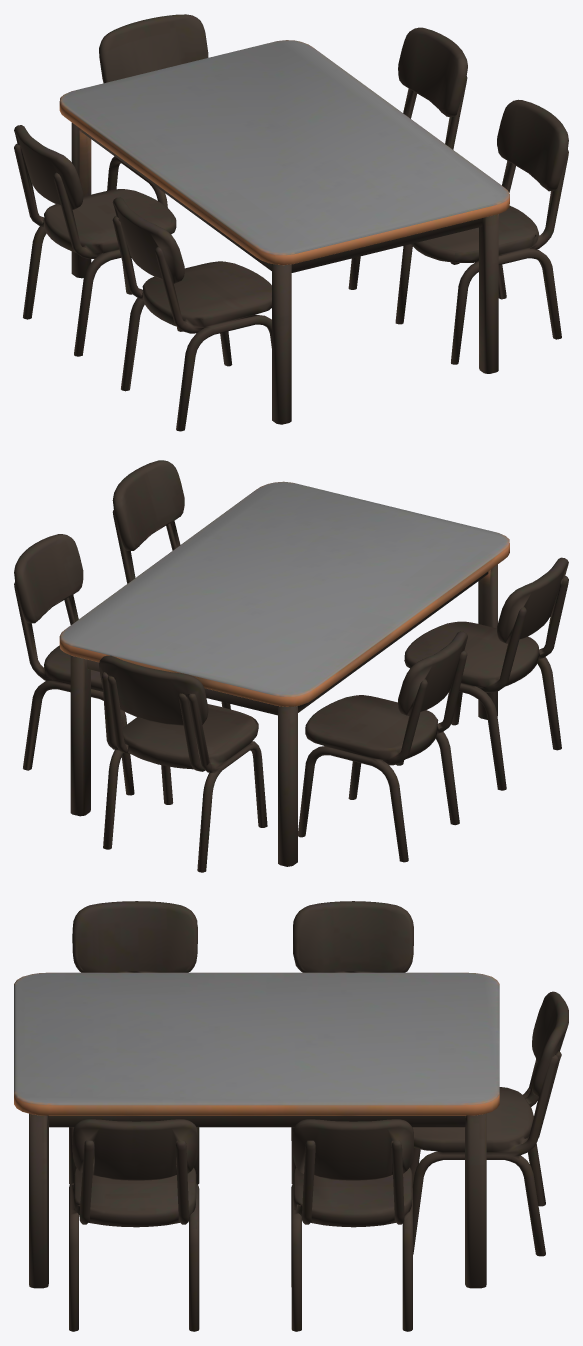
Rendered from break_room_table_09b9fd0d_v3.glb.
The picture shows the model from 3 angles, top to bottom: view 1: azimuth 30°, elevation 25°; view 2: azimuth 150°, elevation 25°; view 3: azimuth 270°, elevation 25°; orthographic projection. The views are drawn at different scales.
Visible parts, largest first — view 1: material; view 2: material; view 3: material.
Part boxes in pixels (x1,y1,x2,y2): material: [14, 14, 568, 431]; material: [14, 460, 568, 872]; material: [14, 901, 568, 1331].
Bounding box in the file's own units: 1.83 × 0.8198 × 1.9.
1 material, 1 textured.
